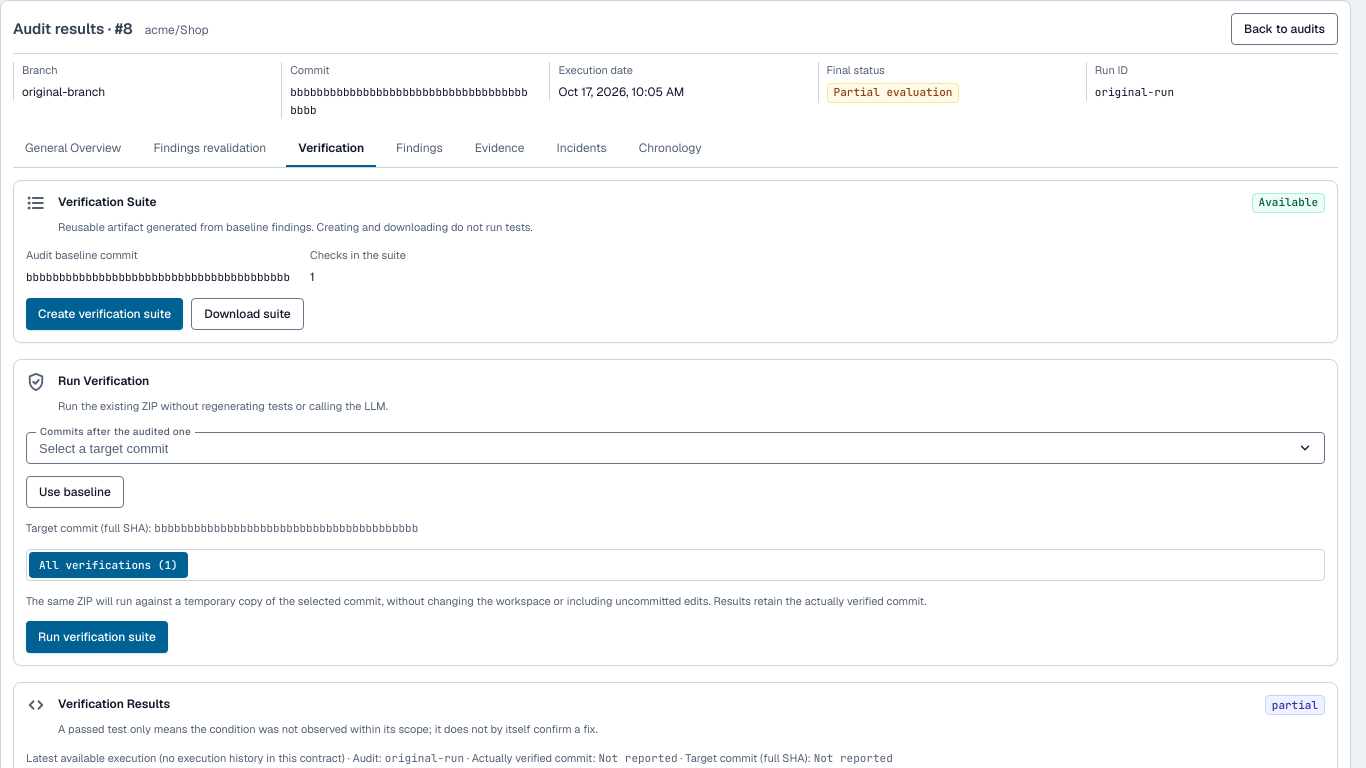
it: dedicated audit results › does not mix a previous execution with a newly generated suite
Step 1. Click the button "Create verification suite" → [105, 314], box [26,298,183,330]
(page scrolled)
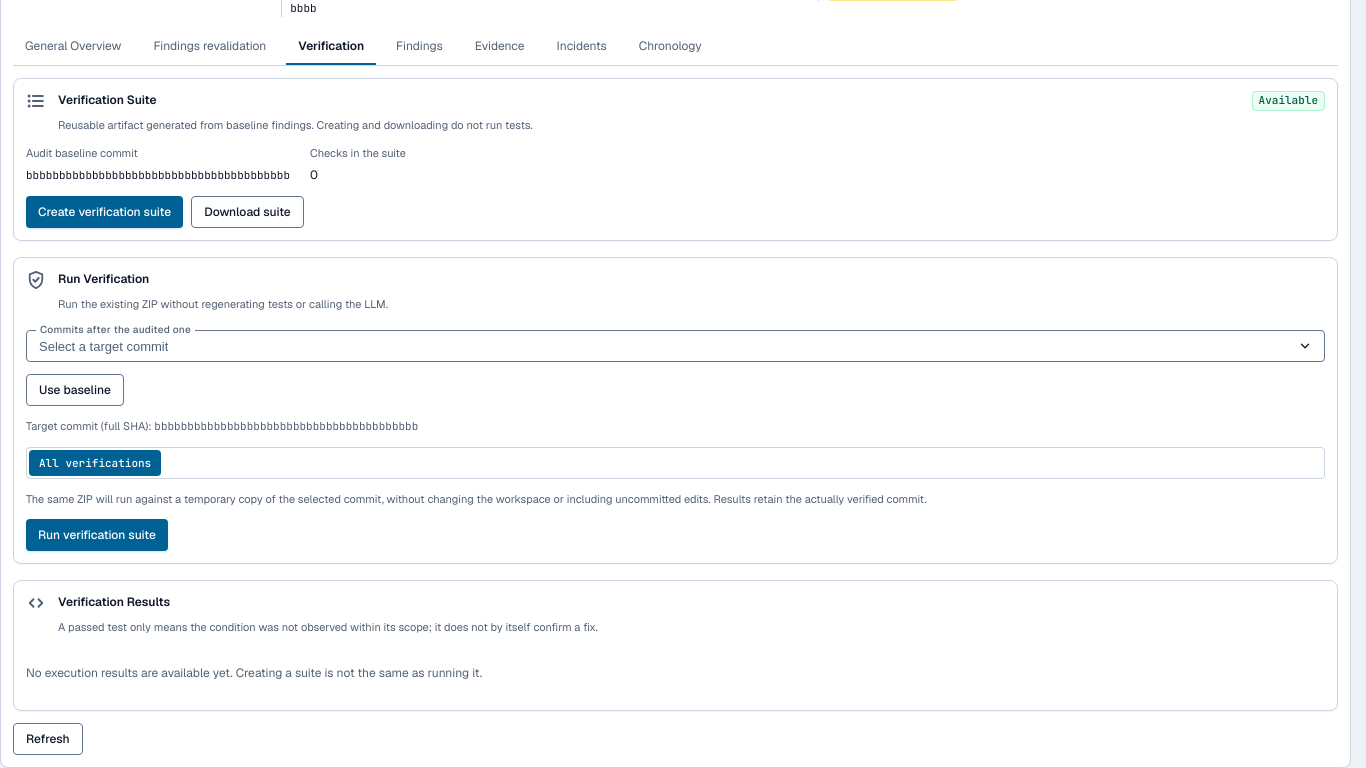
Check: the text "No execution results are available yet" is shown, box [26,664,482,680]
